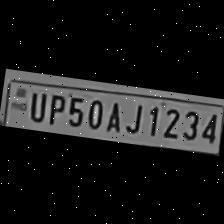0: (84, 94, 106, 129)
1: (141, 102, 162, 138)
2: (158, 103, 182, 139)
3: (178, 105, 200, 141)
4: (198, 107, 220, 142)
5: (62, 92, 86, 128)
A: (102, 96, 125, 133)
J: (119, 98, 144, 134)
P: (42, 89, 66, 126)
U: (24, 87, 47, 122)
